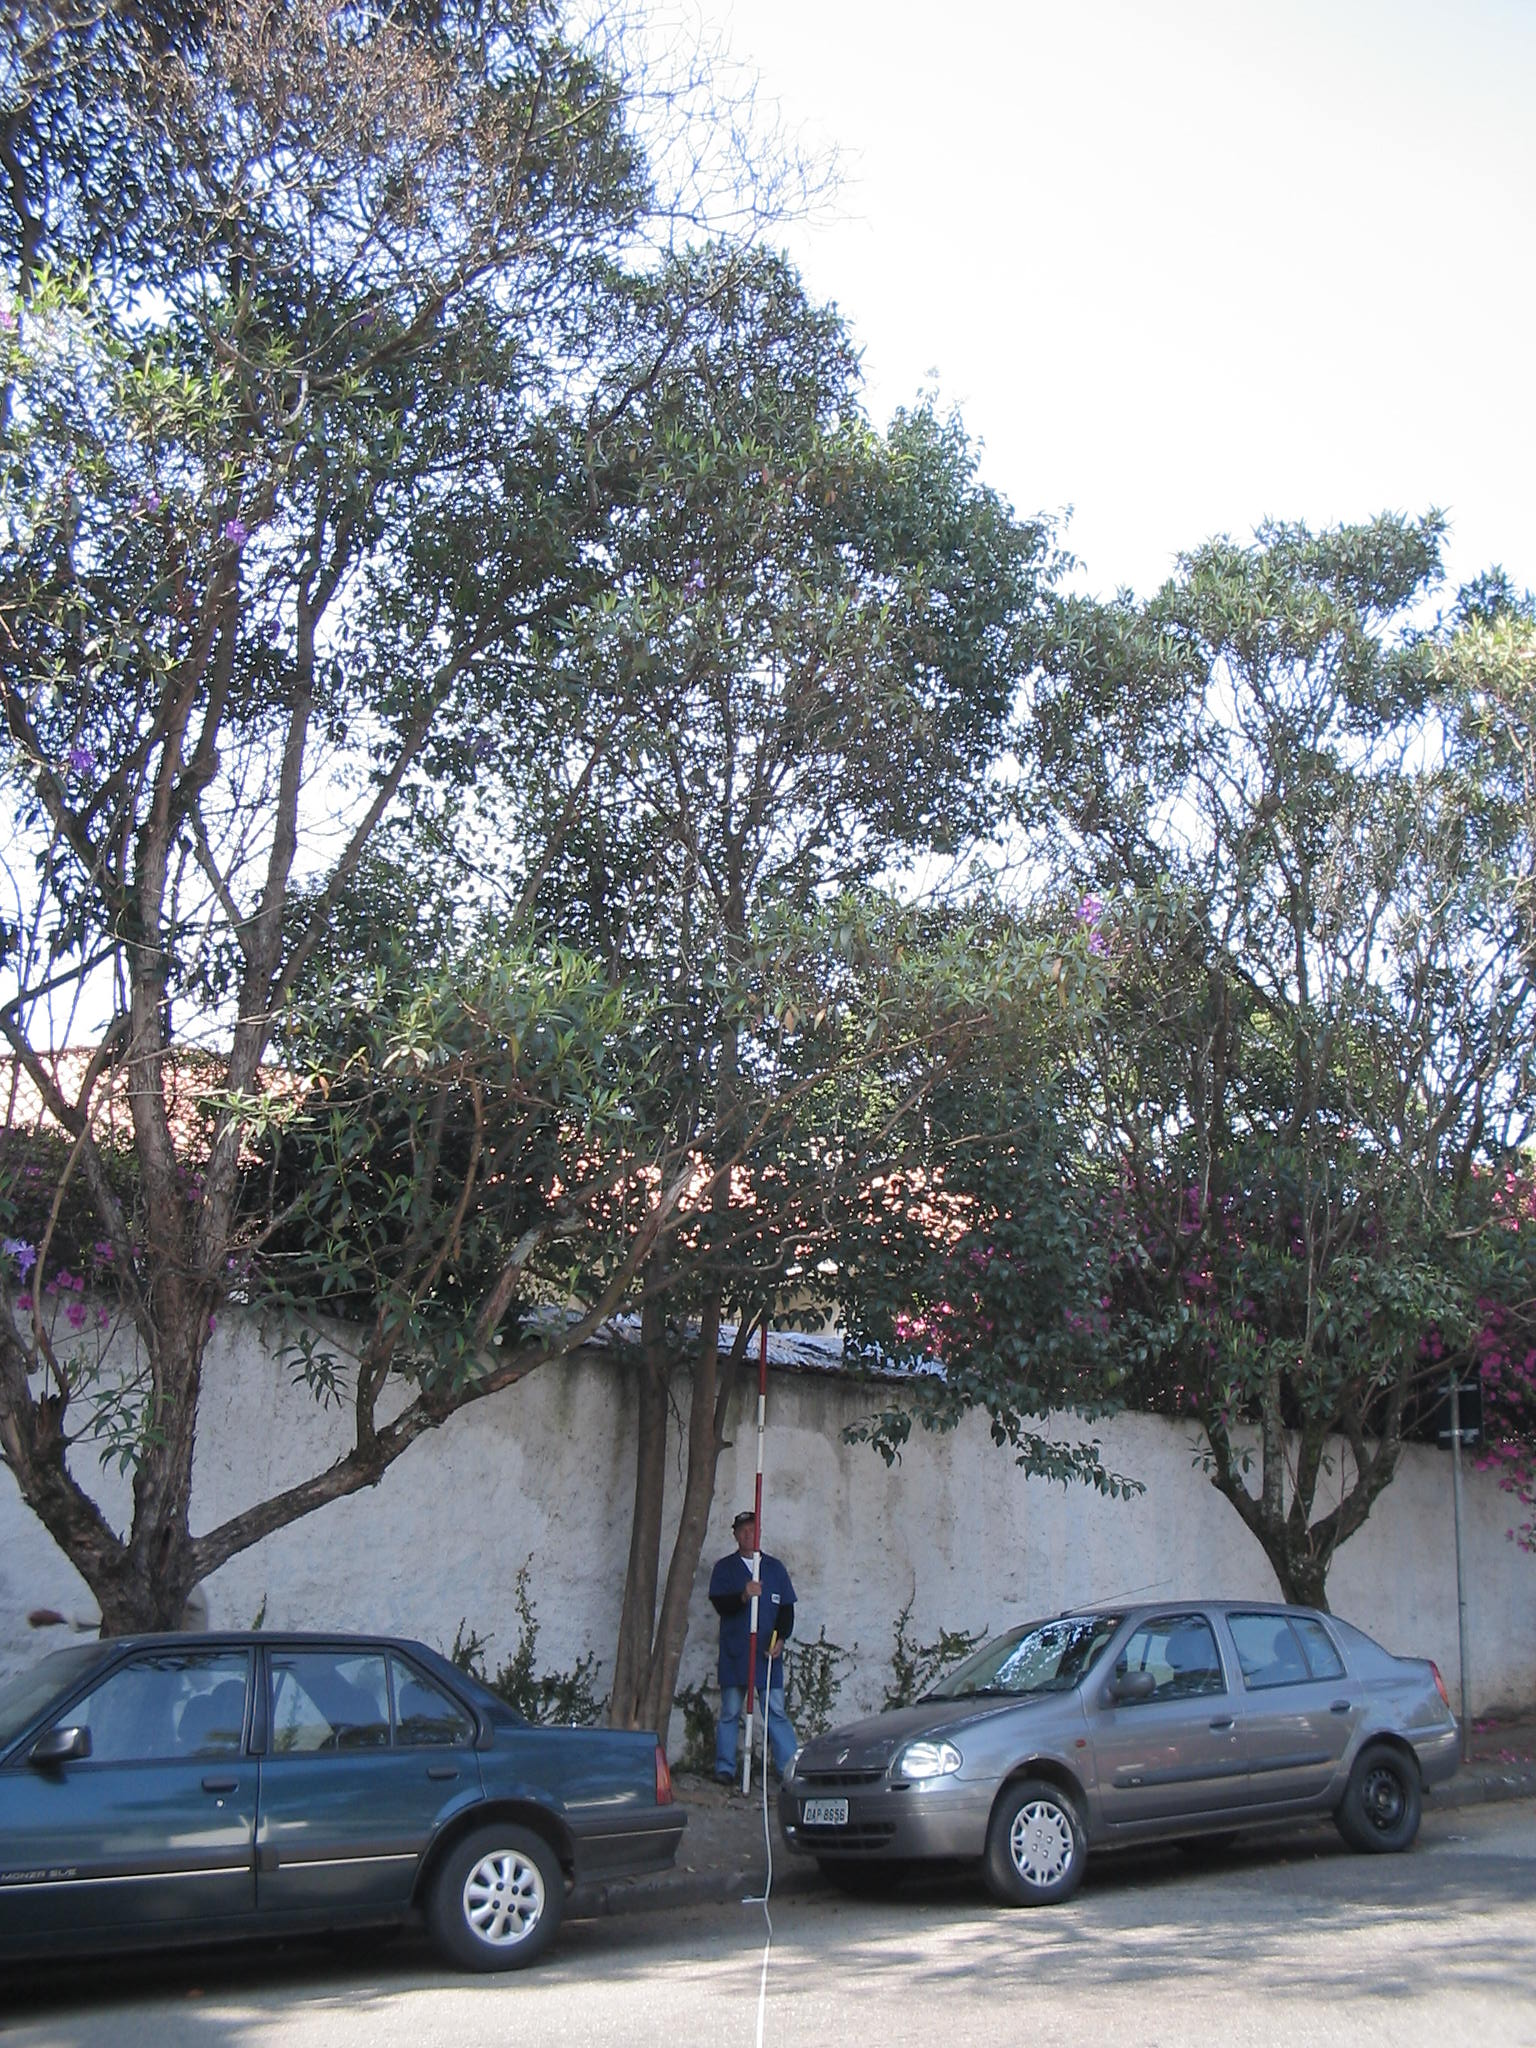crown: (324, 264, 1154, 1517), (13, 18, 766, 1355), (1034, 514, 1533, 1476)
stem: (1258, 1567, 1367, 1756)
stick: (726, 1317, 779, 1801)
tree: (8, 6, 771, 1861), (316, 261, 1163, 1804), (1028, 510, 1536, 1756)
